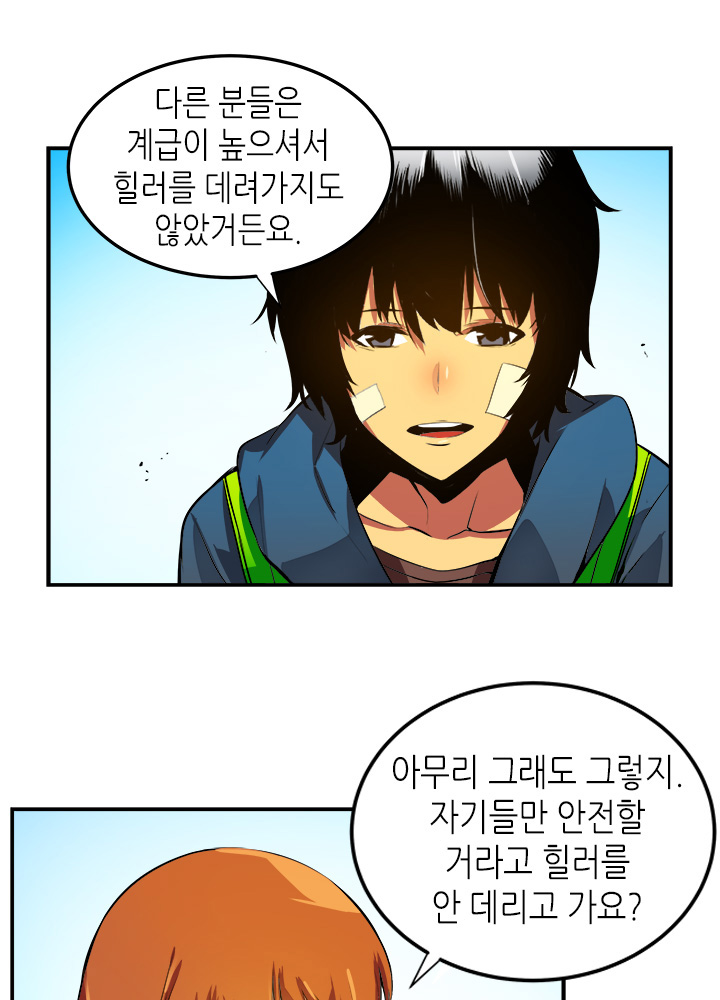dialog box: (303, 649, 717, 1000), (34, 24, 413, 334)
text: (366, 731, 720, 942), (94, 57, 364, 272)
